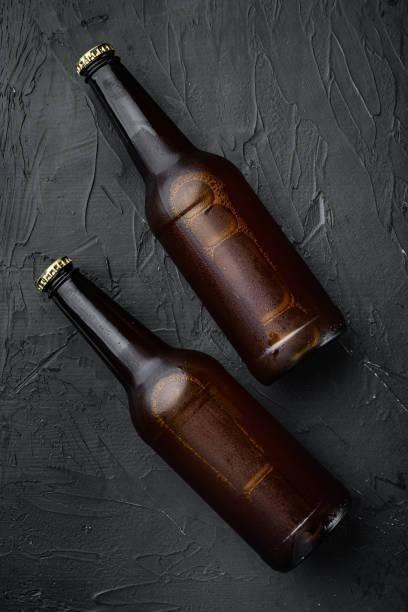bottle-glass: (31, 253, 348, 571), (75, 41, 344, 381)
